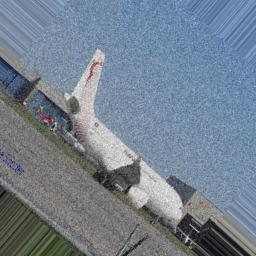Airplane: (53, 46, 184, 232)
